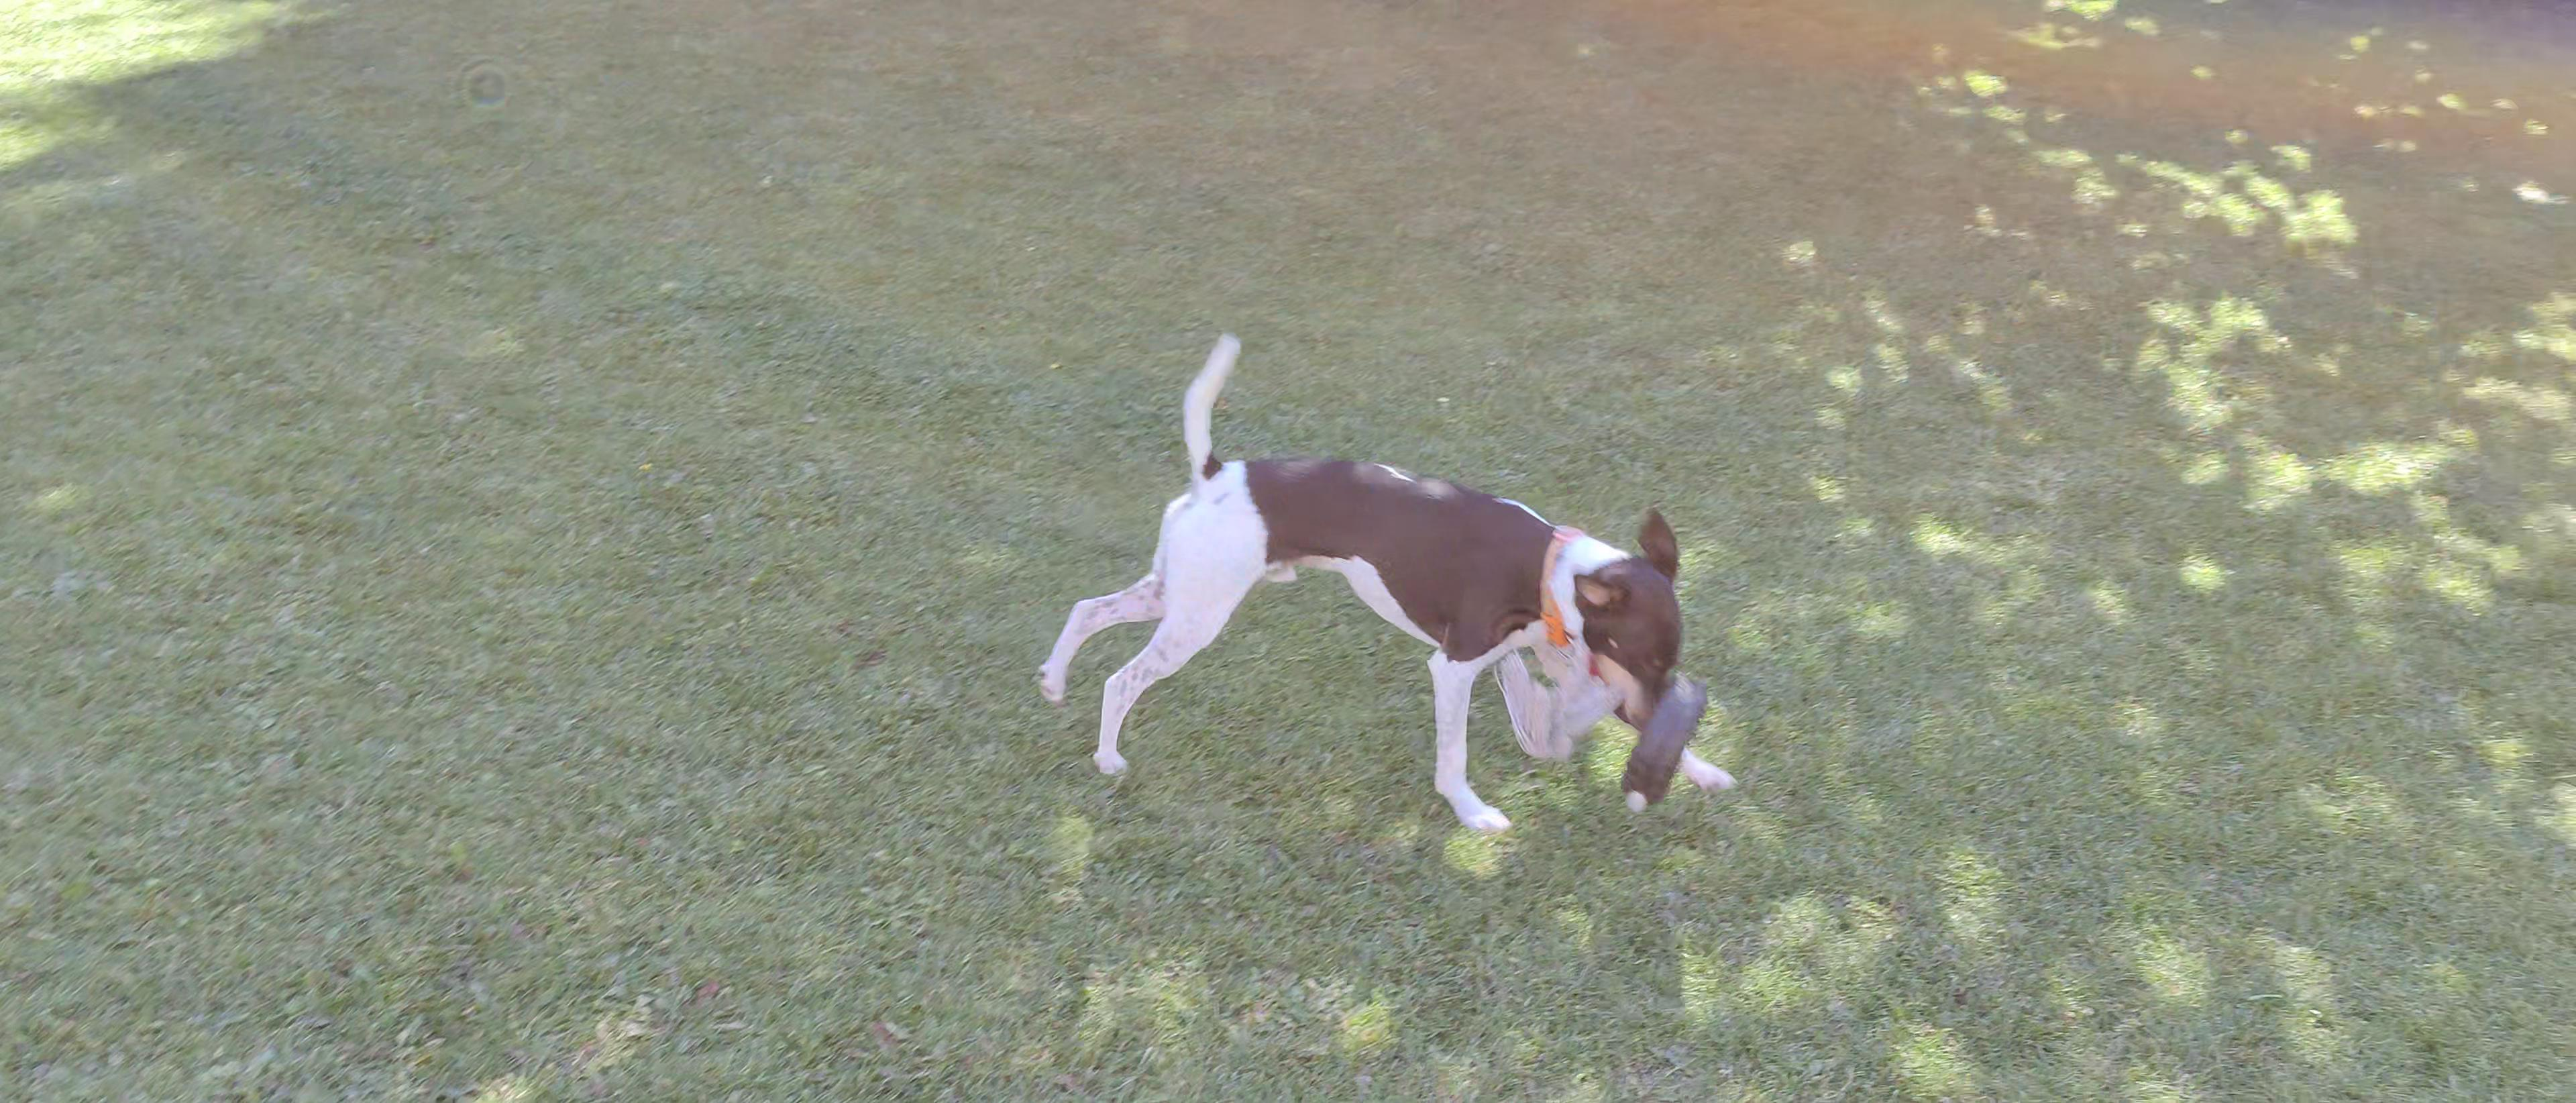Dog: (1030, 329, 1750, 840)
